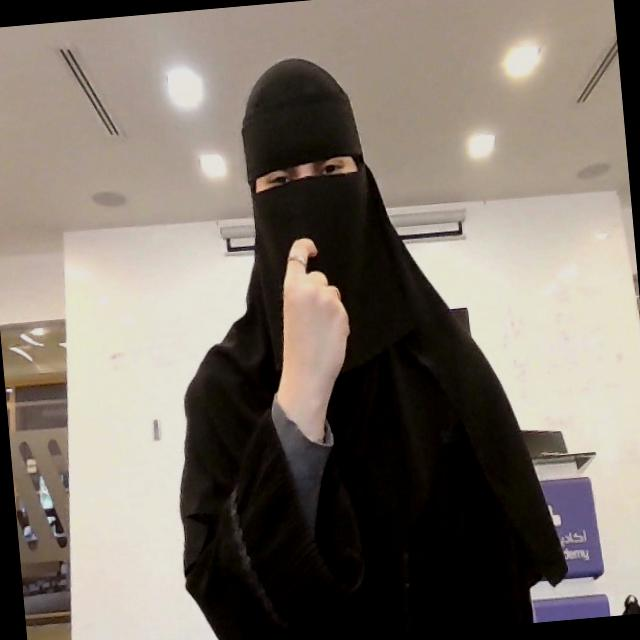medicine: (262, 234, 360, 446)
